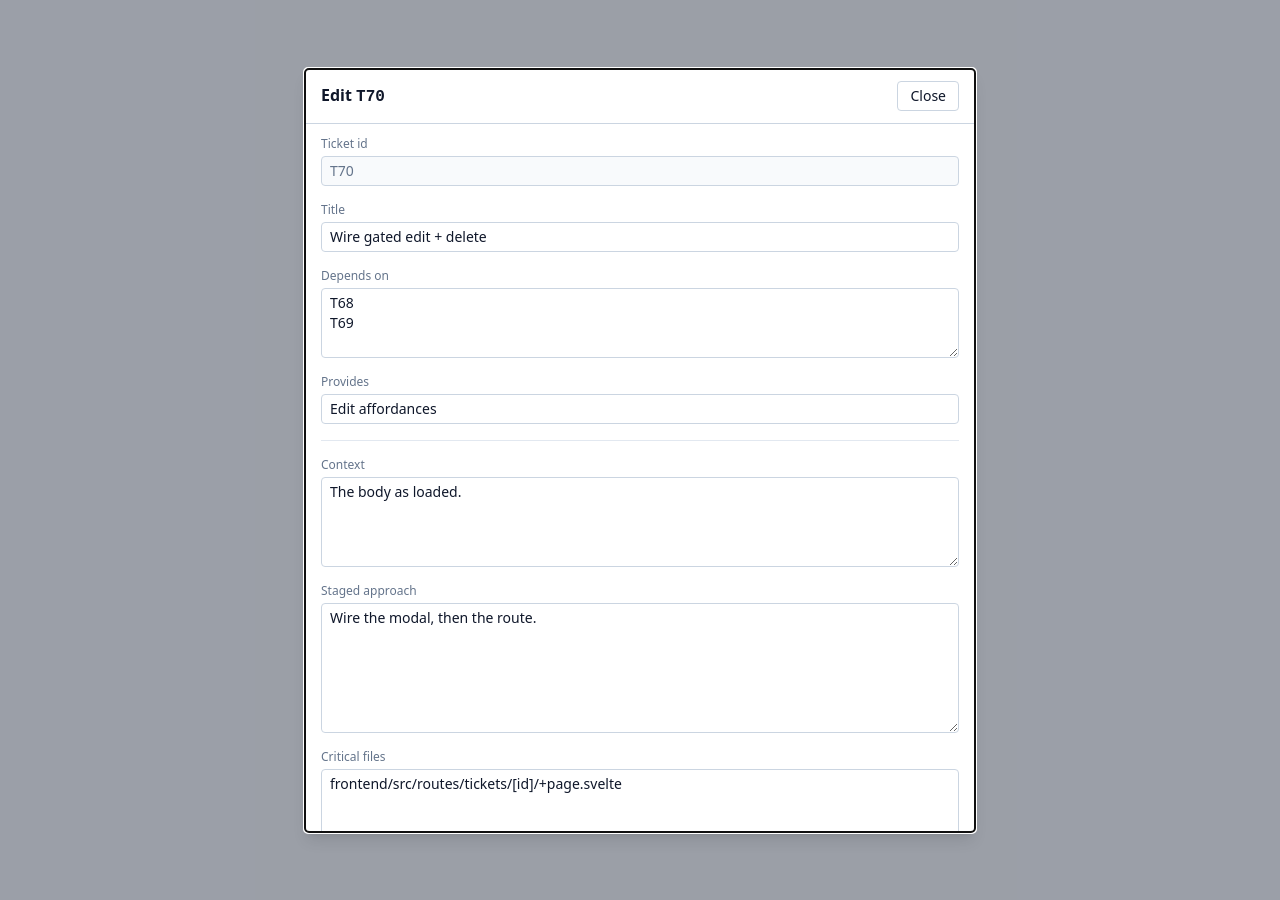
Test: EditTicketModal › dry-runs the edit on submit and shows the returned diff
Step 1. Replace the text in the field labelled "Title" with "Renamed" → (640, 236), box x1=321 y1=222 x2=959 y2=252
(page scrolled)
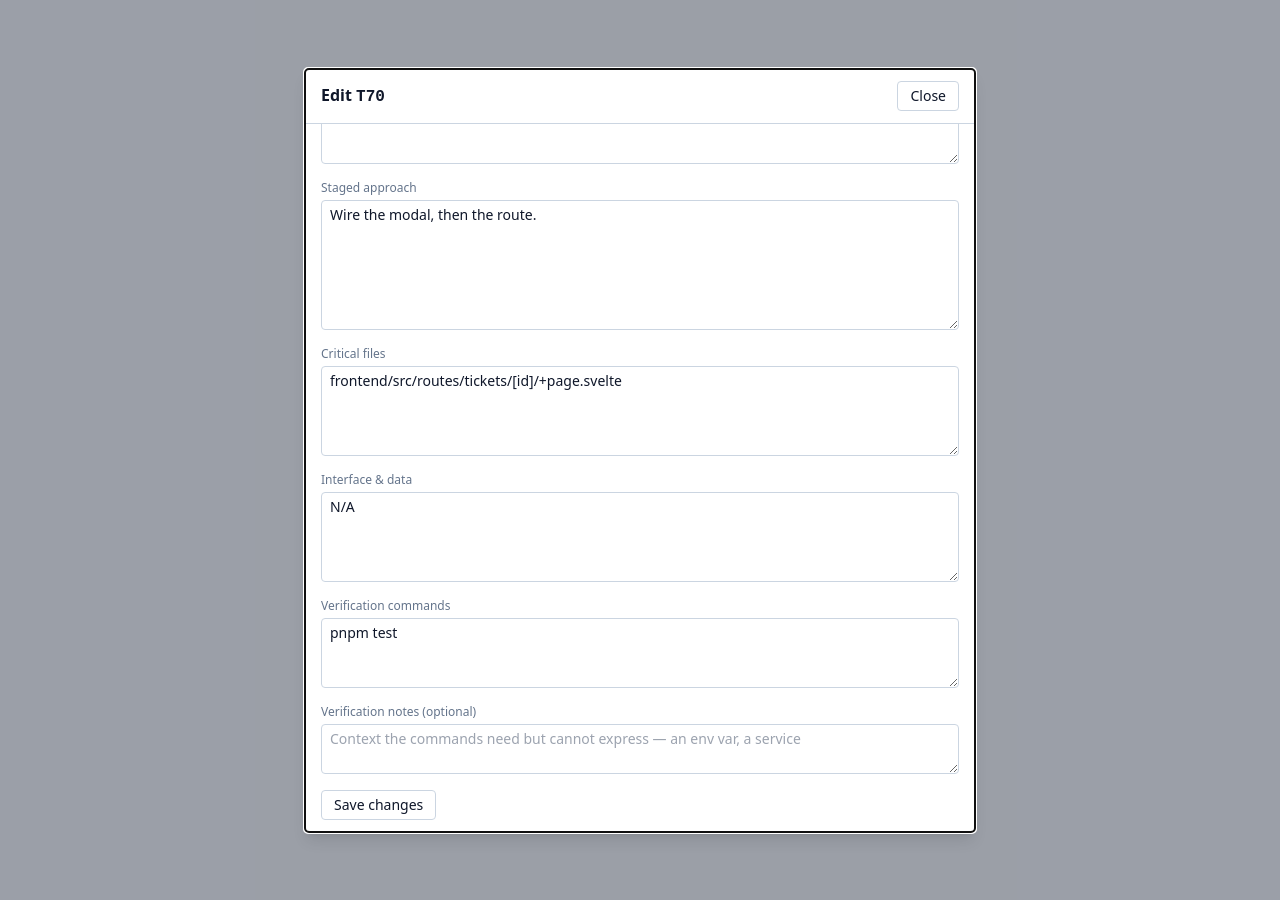
Step 2. Click the button "Save changes" → (379, 804), box x1=321 y1=790 x2=436 y2=820
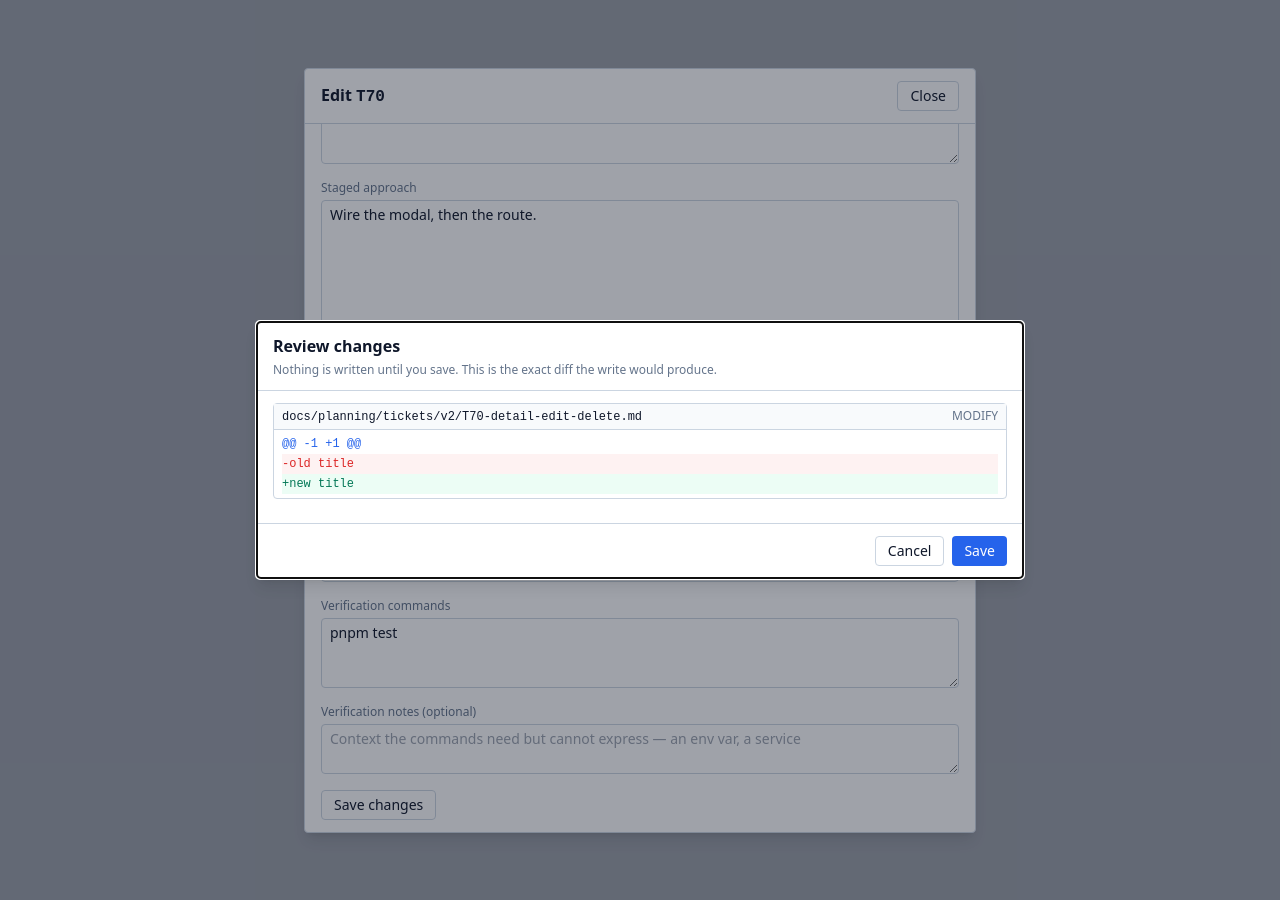
Now the text "+new title" is shown, box x1=282 y1=474 x2=998 y2=494
